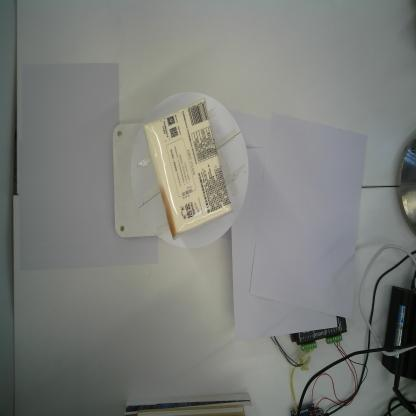Tissue: (142, 96, 233, 242)
